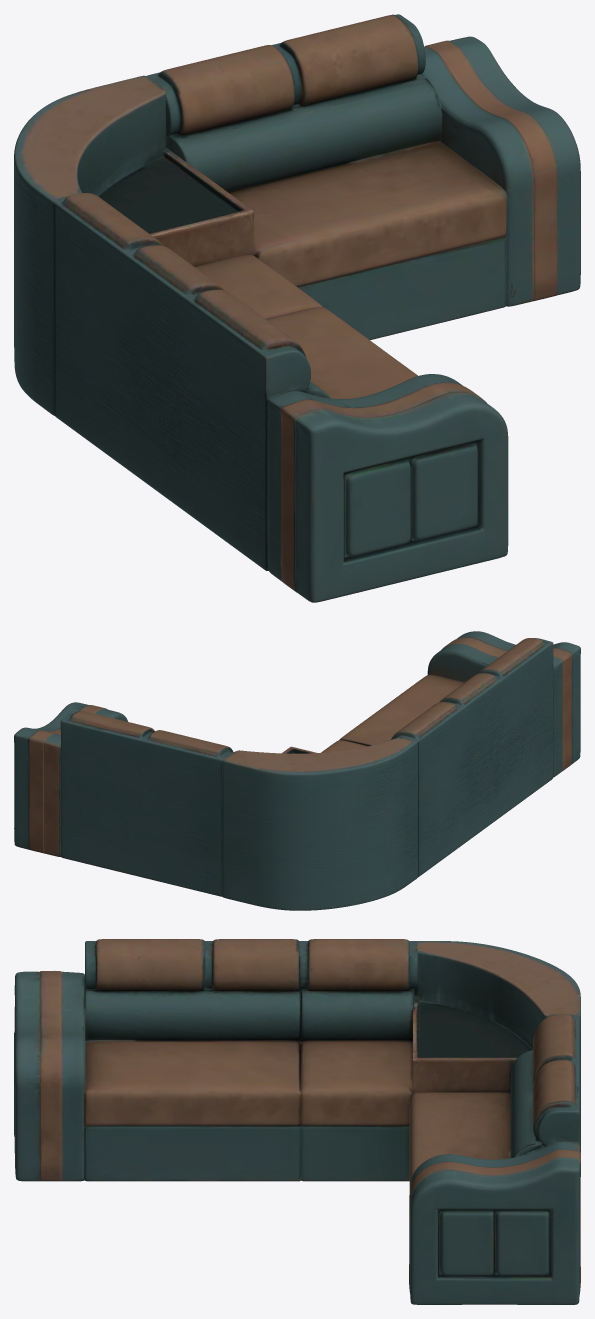
The model's file is sofa1.glb.
The picture shows the model from 3 angles, top to bottom: view 1: azimuth 30°, elevation 25°; view 2: azimuth 150°, elevation 25°; view 3: azimuth 270°, elevation 25°; orthographic projection. The views are drawn at different scales.
Visible parts, largest first — view 1: node_0; view 2: node_0; view 3: node_0.
Part boxes in pixels (left/top/right/bottom): node_0: left=14, top=14, right=580, bottom=602; node_0: left=14, top=631, right=580, bottom=910; node_0: left=14, top=939, right=580, bottom=1304.
Size of the model in its own units: 0.7523 by 0.3037 by 0.9034.
Materials: 1 (1 with a texture image).
